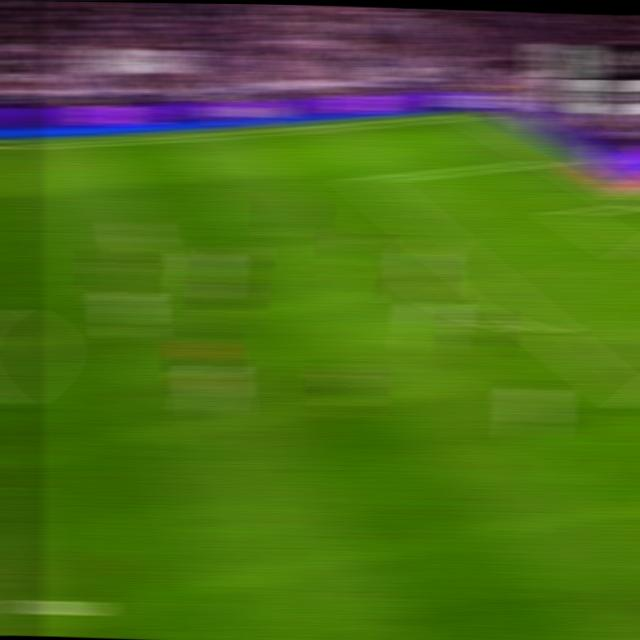bigarea_top_inner: (353, 171, 382, 188)
bigarea_top_outter: (539, 151, 569, 166)
bottom_arc_area_intersection: (529, 319, 561, 340)
corner: (461, 109, 491, 120)
smallarea_top_inner: (556, 208, 584, 220)
top_arc_area_intersection: (421, 229, 452, 247)
